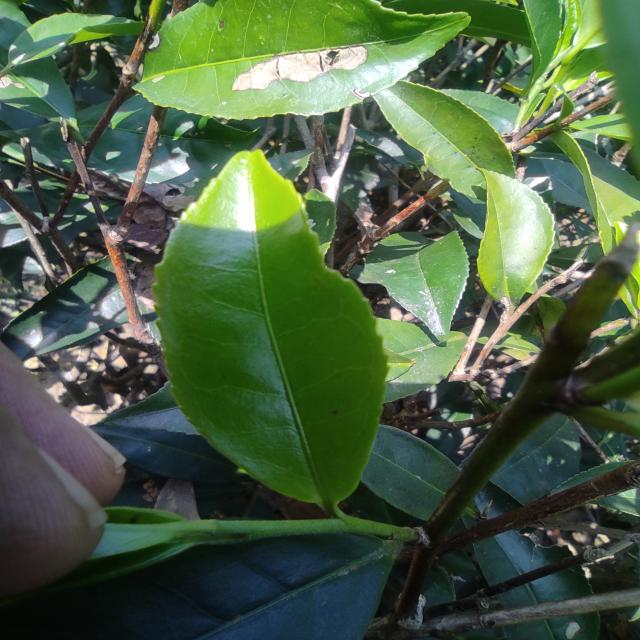Category C(4-7 days): (139, 127, 414, 546)
